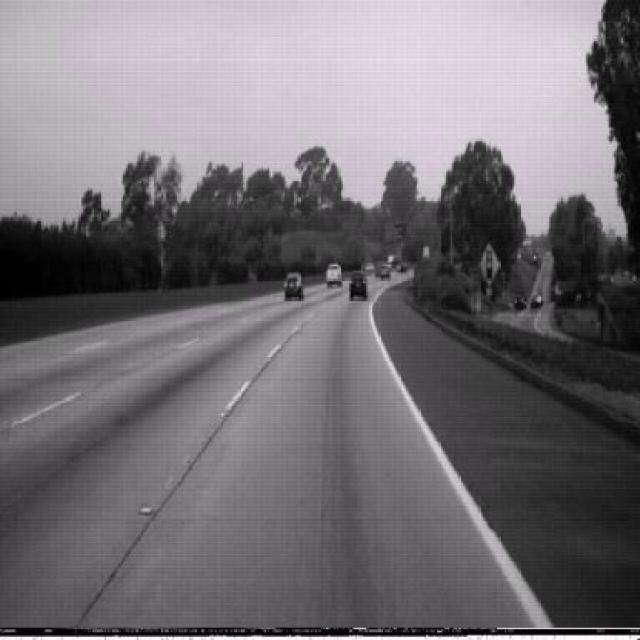signalAhead: (477, 242, 500, 286)
